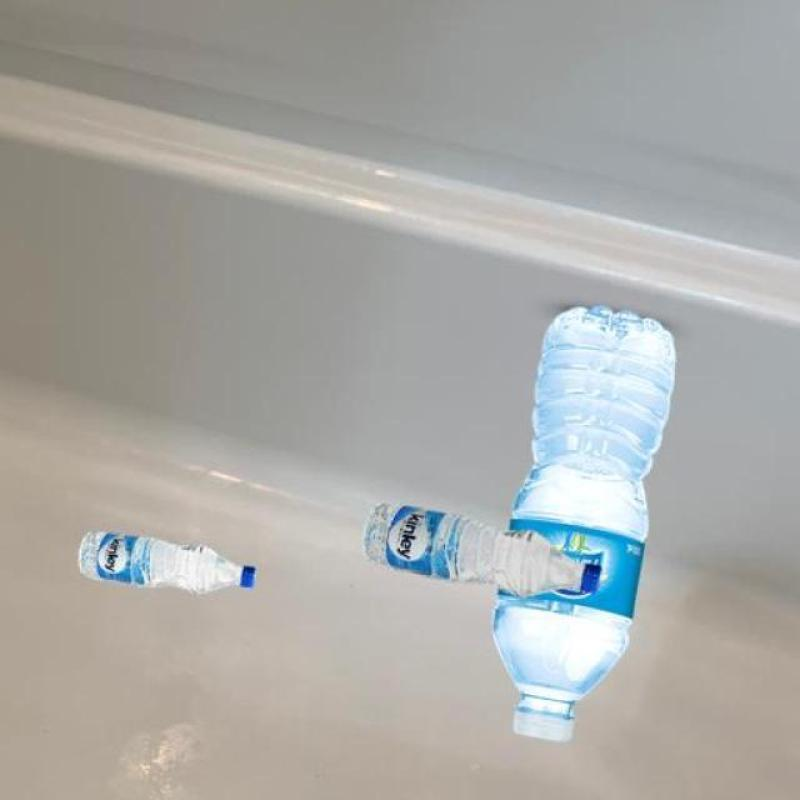botella: (491, 308, 671, 744), (357, 496, 599, 606), (74, 522, 266, 602)
